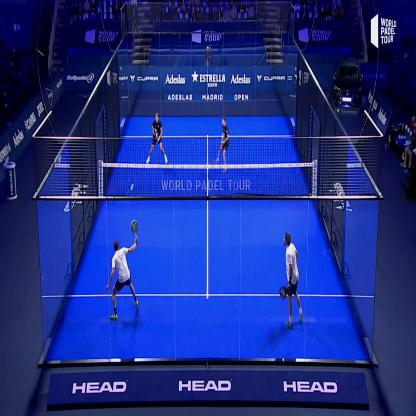ball: (128, 180, 136, 194)
